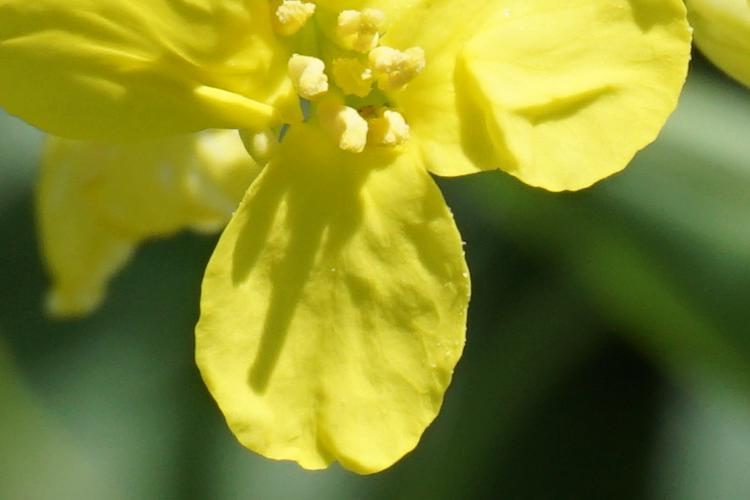yellow: (17, 3, 679, 456)
